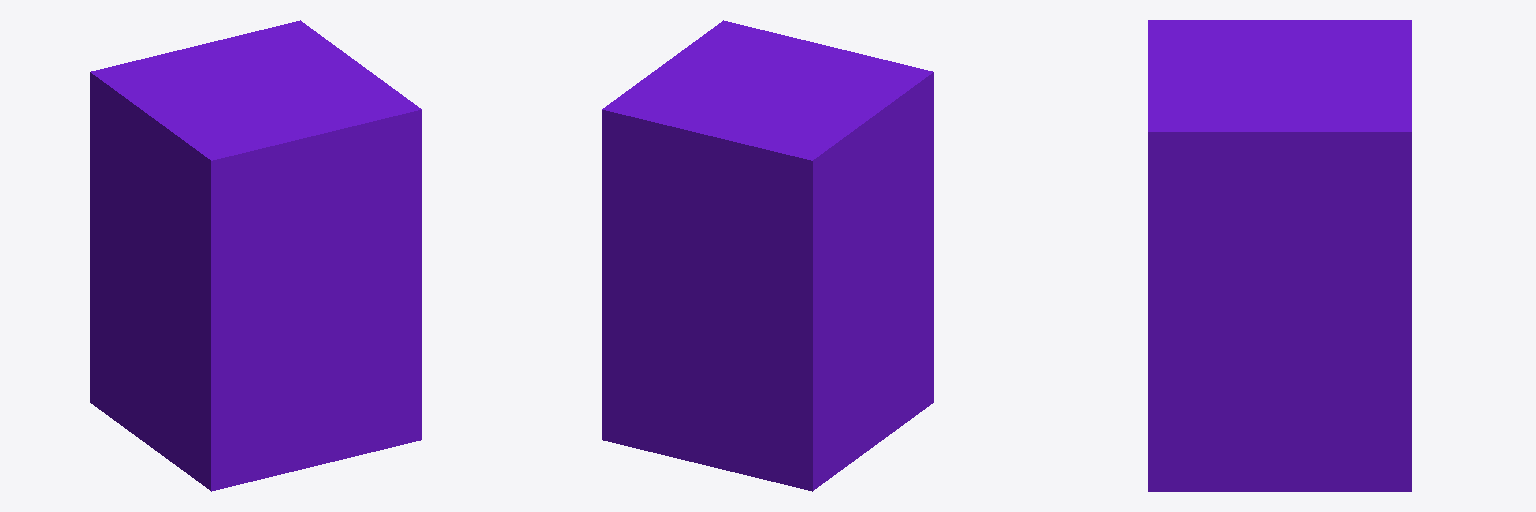
robot.urdf — box:
<?xml version="0.0" ?>
<robot name="box">
  <link name="base_link">
    <inertial>
      <mass value="5"/>
      <inertia ixx="1" ixy="0" ixz="0" iyy="1" iyz="0" izz="1"/>
    </inertial>
    <visual>
      <geometry>
        <box size="1 1 1.5"/>
      </geometry>
      <material name="purple">
        <color rgba="0.5 0.15 0.9 1.0"/>
      </material>
      <origin xyz="0 0 0.75"/>
    </visual>
    <collision>
      <geometry>
        <box size="1 1 1.5"/>
      </geometry>
      <origin xyz="0 0 0.75"/>
    </collision>
    <contact>
      <lateral_friction value="0.9"/>
      <restitution value="0.4"/>
    </contact>
  </link>
</robot>

--- Render facts (derived) ---
The picture shows the robot from 3 angles, left to right: view 1: azimuth 30°, elevation 25°; view 2: azimuth 150°, elevation 25°; view 3: azimuth 270°, elevation 25°; orthographic projection.
Robot: box — 1 links, 0 joints (none); root link base_link; default pose: all joints at 0.
Visible links, largest first — view 1: base_link; view 2: base_link; view 3: base_link.
Link boxes in pixels (bbox=[...]): base_link: bbox=[90, 20, 421, 491]; base_link: bbox=[602, 20, 933, 491]; base_link: bbox=[1148, 20, 1411, 491].
Size in the robot's own frame: 1 by 1 by 1.5 metres.
Geometry: primitives only (box / cylinder / sphere), no mesh files.